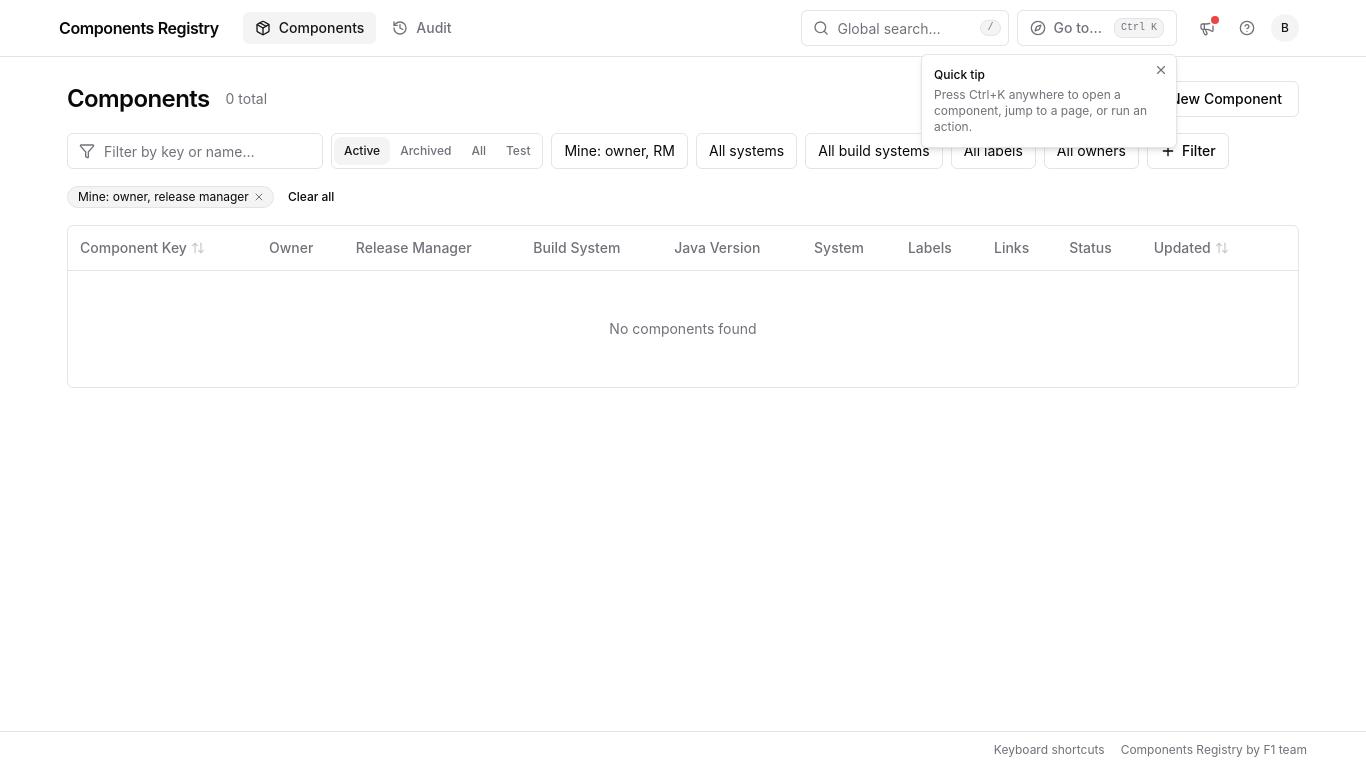
ComponentListPage — Status / Mine filters + active-filter chips › removing the Mine chip clears involves and its roles
Click the button named "remove mine: owner, release manager": [259, 197] box [253, 191, 265, 203]
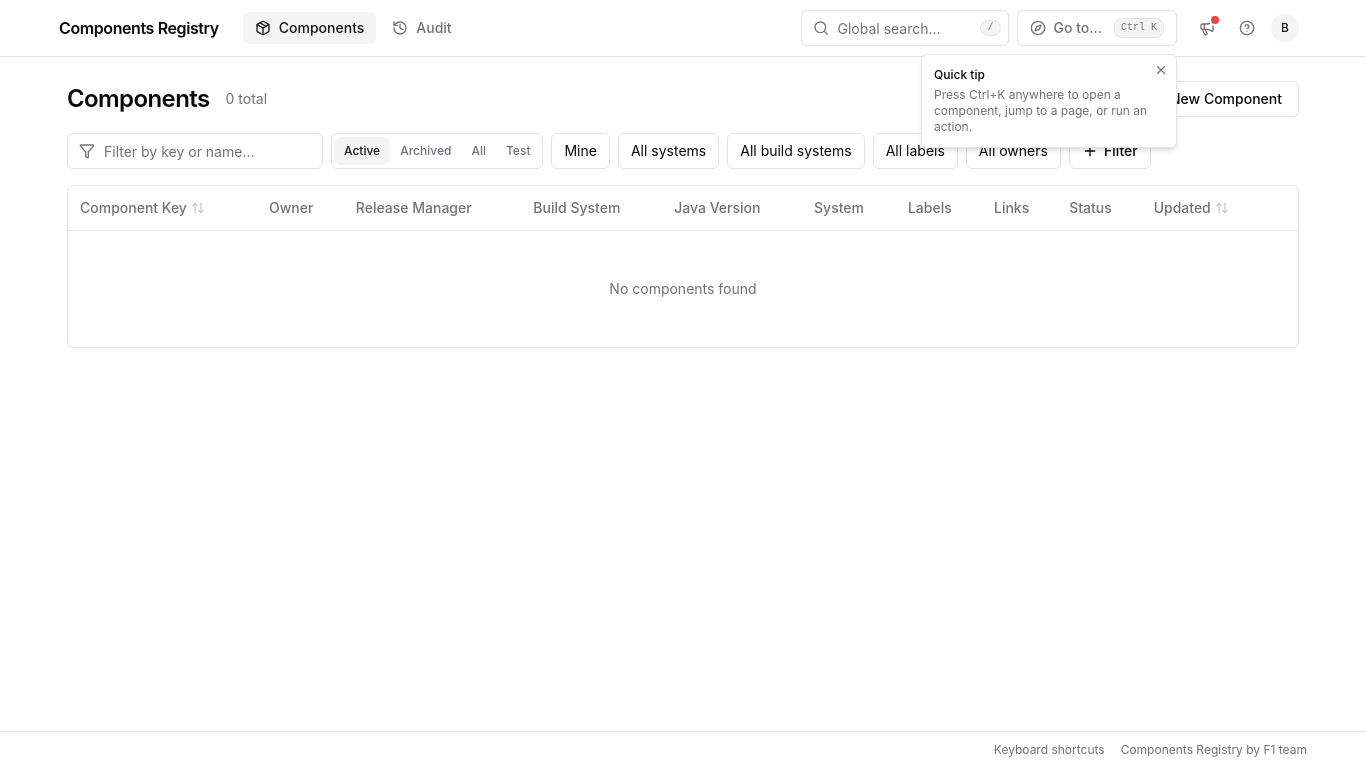
Expected: the element with test id "active-filter-chips" is gone
